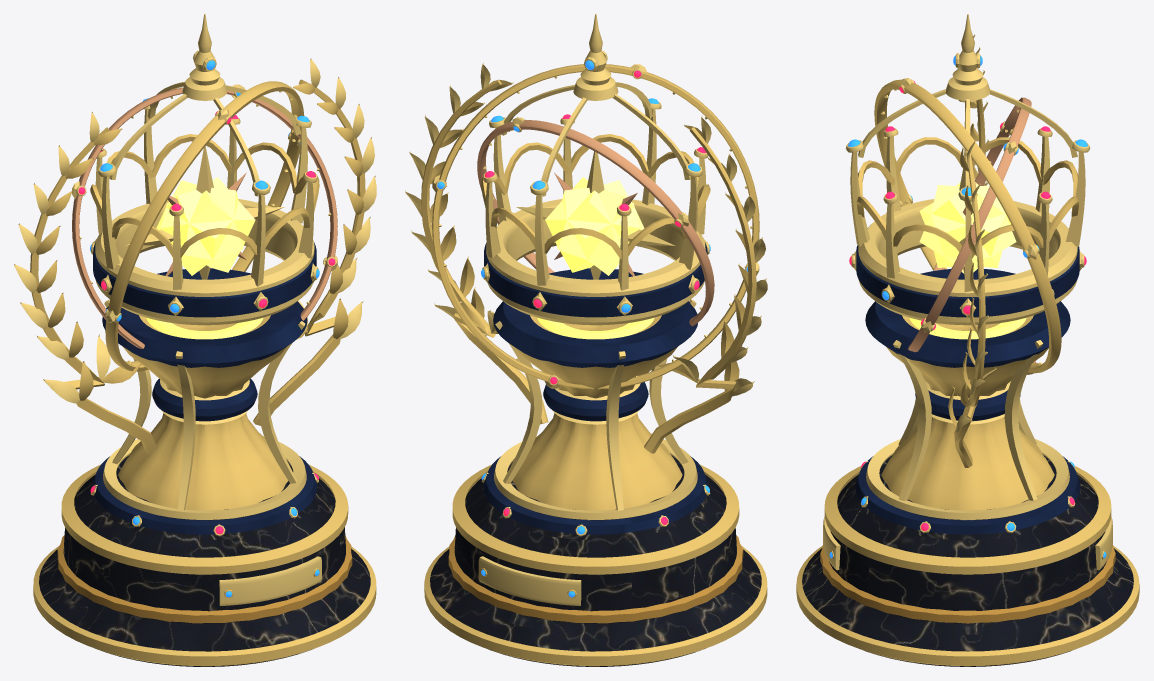
Rendered from championship_trophy.glb.
The picture shows the model from 3 angles, left to right: view 1: azimuth 30°, elevation 25°; view 2: azimuth 150°, elevation 25°; view 3: azimuth 270°, elevation 25°; orthographic projection.
Parts seen in each view (by area): view 1: Trophy_Plinth, Trophy_Stem_Laurels, Trophy_Crown_Ring, Trophy_Star_Core, Trophy_Astrolabe_Ring_Outer, Trophy_Astrolabe_Ring_Inner; view 2: Trophy_Plinth, Trophy_Stem_Laurels, Trophy_Crown_Ring, Trophy_Star_Core, Trophy_Astrolabe_Ring_Outer, Trophy_Astrolabe_Ring_Inner; view 3: Trophy_Plinth, Trophy_Stem_Laurels, Trophy_Crown_Ring, Trophy_Astrolabe_Ring_Outer, Trophy_Star_Core, Trophy_Astrolabe_Ring_Inner.
Boxes of the visible parts, x1,y1,x2,y2 form: Trophy_Plinth: (33, 436, 376, 666); Trophy_Stem_Laurels: (14, 58, 376, 510); Trophy_Crown_Ring: (90, 77, 319, 325); Trophy_Star_Core: (125, 14, 284, 279); Trophy_Astrolabe_Ring_Outer: (105, 81, 304, 371); Trophy_Astrolabe_Ring_Inner: (72, 84, 337, 348); Trophy_Plinth: (424, 436, 767, 666); Trophy_Stem_Laurels: (405, 63, 767, 510); Trophy_Crown_Ring: (481, 77, 710, 325); Trophy_Star_Core: (516, 14, 675, 279); Trophy_Astrolabe_Ring_Outer: (432, 64, 759, 389); Trophy_Astrolabe_Ring_Inner: (477, 117, 714, 326); Trophy_Plinth: (796, 439, 1139, 666); Trophy_Stem_Laurels: (865, 34, 1070, 510); Trophy_Crown_Ring: (845, 77, 1090, 325); Trophy_Astrolabe_Ring_Outer: (874, 78, 1061, 374); Trophy_Star_Core: (919, 14, 1016, 275); Trophy_Astrolabe_Ring_Inner: (908, 97, 1031, 352).
Bounding box in the file's own units: 0.5939 × 0.918 × 0.488.
Materials: 10 (2 with a texture image).
